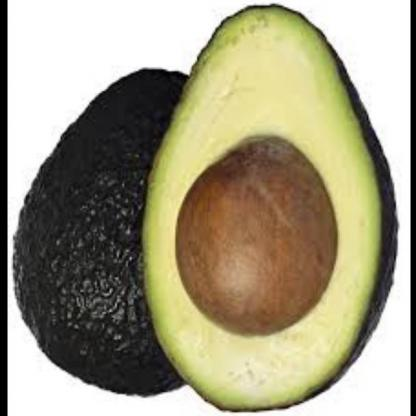avocado: (136, 0, 405, 414), (6, 21, 175, 409)
